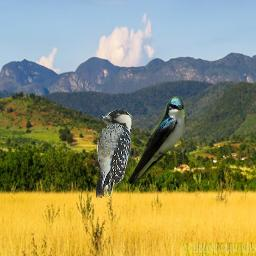Swallow: (125, 96, 187, 190)
Woodpecker: (96, 109, 132, 198)
